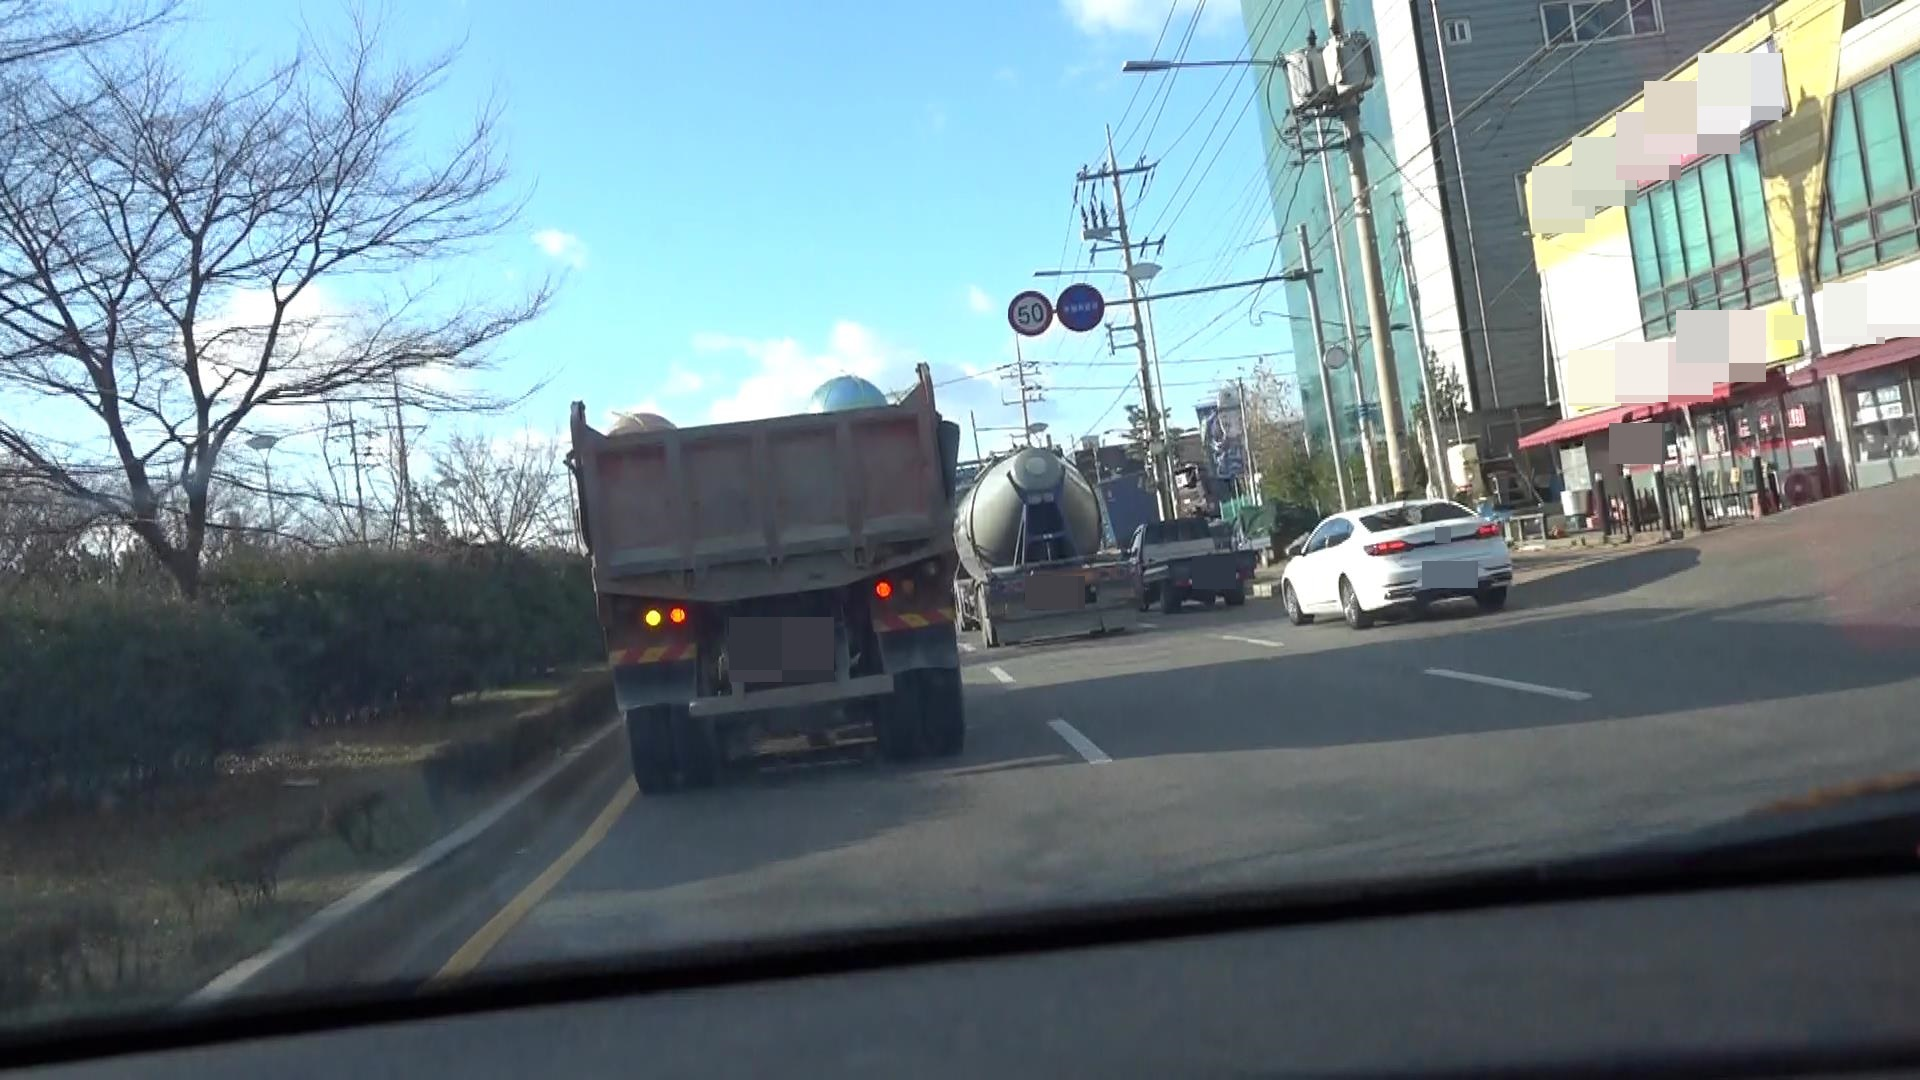불법차량: (560, 360, 968, 799)
